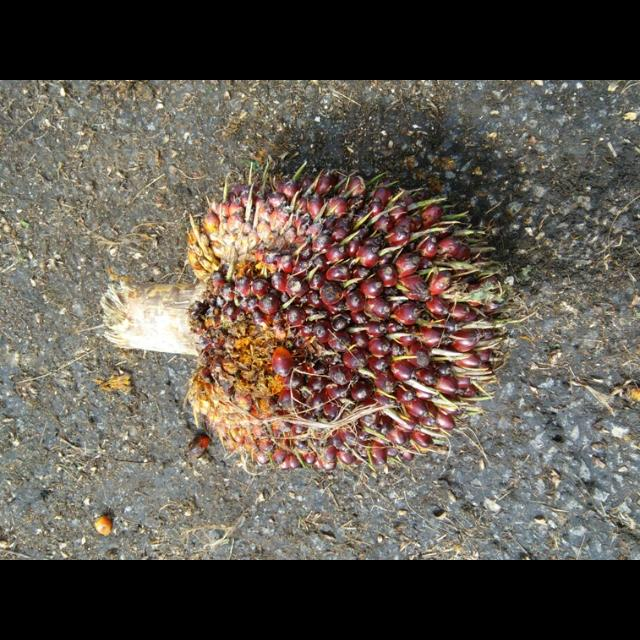Ripe: (187, 173, 496, 473)
